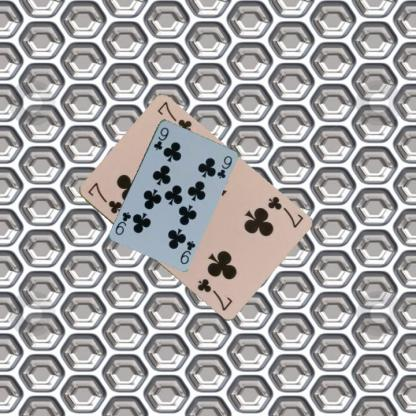7c: (264, 194, 304, 230), (84, 180, 123, 216)
9c: (151, 124, 170, 151), (178, 238, 196, 265)
